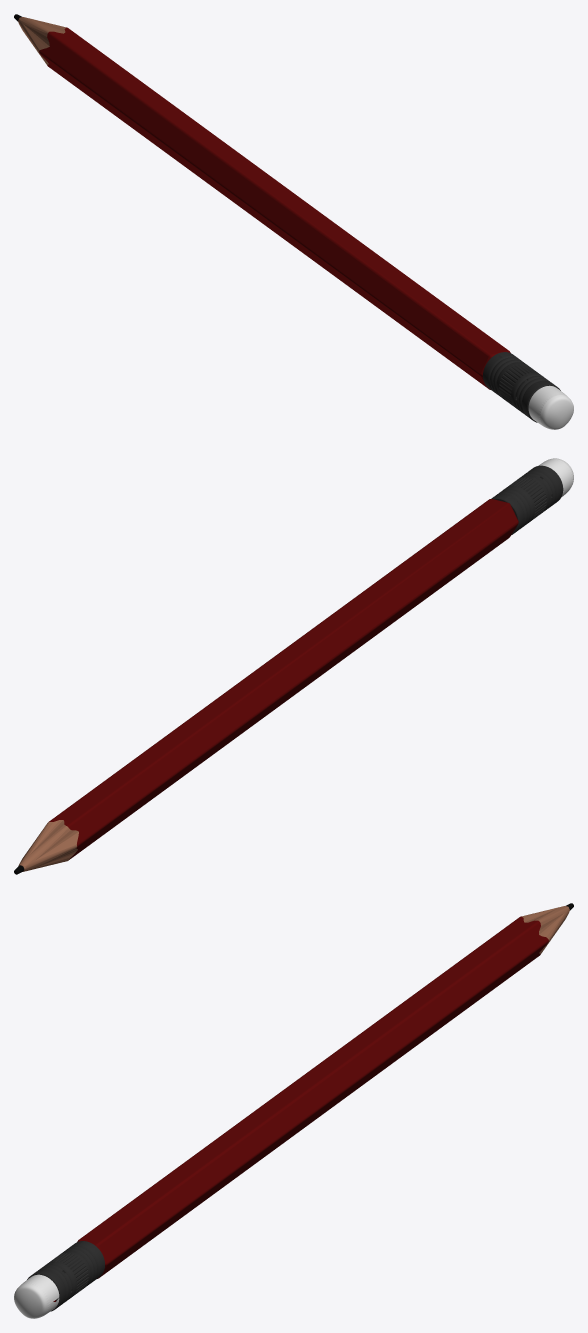
Rendered from freepolygon (217).fbx.fbx.
The picture shows the model from 3 angles, top to bottom: view 1: azimuth 30°, elevation 25°; view 2: azimuth 150°, elevation 25°; view 3: azimuth 330°, elevation 25°; orthographic projection.
Parts seen in each view (by area): view 1: freepolygon.com; view 2: freepolygon.com; view 3: freepolygon.com.
Part boxes in pixels (x1,y1,x2,y2): freepolygon.com: (14,14,573,429); freepolygon.com: (14,458,573,874); freepolygon.com: (14,903,573,1318).
Bounding box in the file's own units: 0.2697 × 0.2559 × 6.69.
